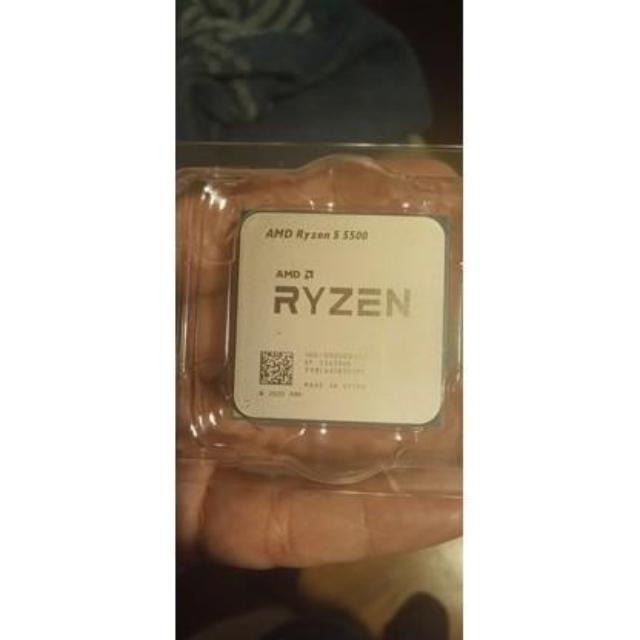CPU: (230, 208, 448, 424)
